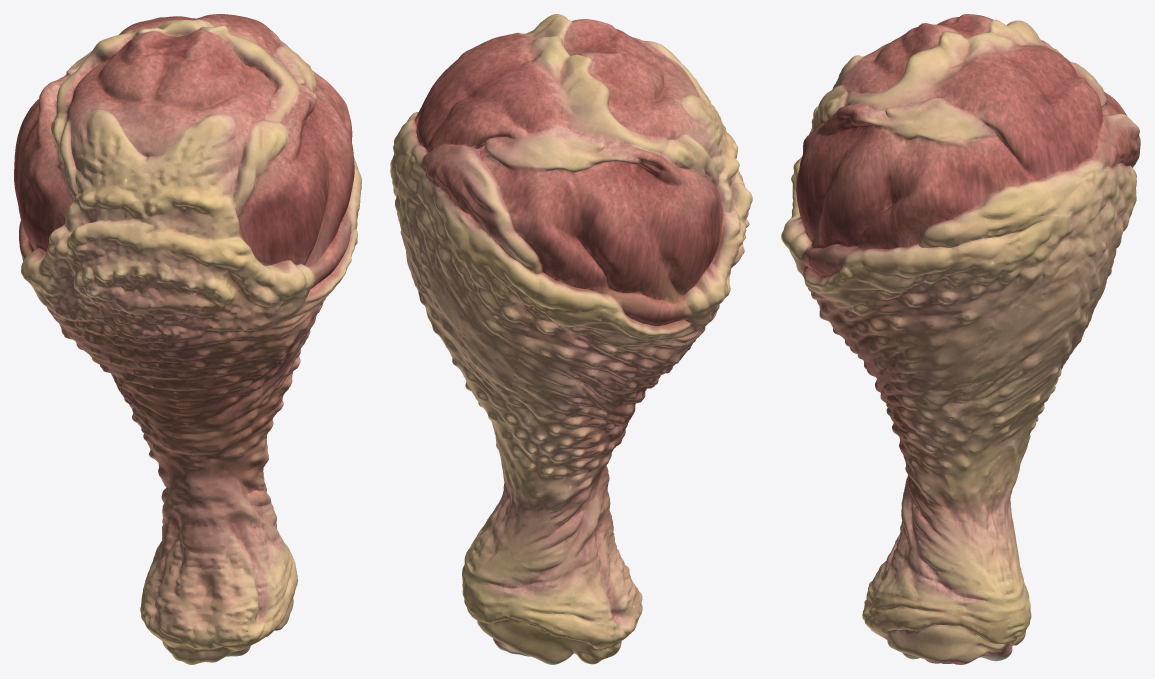
The model's file is new_raw_chicken_photoreal_v2.glb.
3 renders of one model, left to right at view 1: azimuth 30°, elevation 25°; view 2: azimuth 150°, elevation 25°; view 3: azimuth 270°, elevation 25°, orthographic.
Parts seen in each view (by area): view 1: mesh_node; view 2: mesh_node; view 3: mesh_node.
Boxes of the visible parts, x1,y1,x2,y2 form: mesh_node: (14, 14, 361, 664); mesh_node: (390, 14, 752, 664); mesh_node: (781, 14, 1140, 664).
Size of the model in its own units: 1.6 by 3.05 by 1.59.
1 material, 1 textured.
